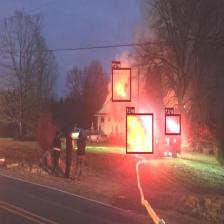fire: (126, 113, 153, 154), (112, 67, 131, 102), (164, 114, 180, 134)
